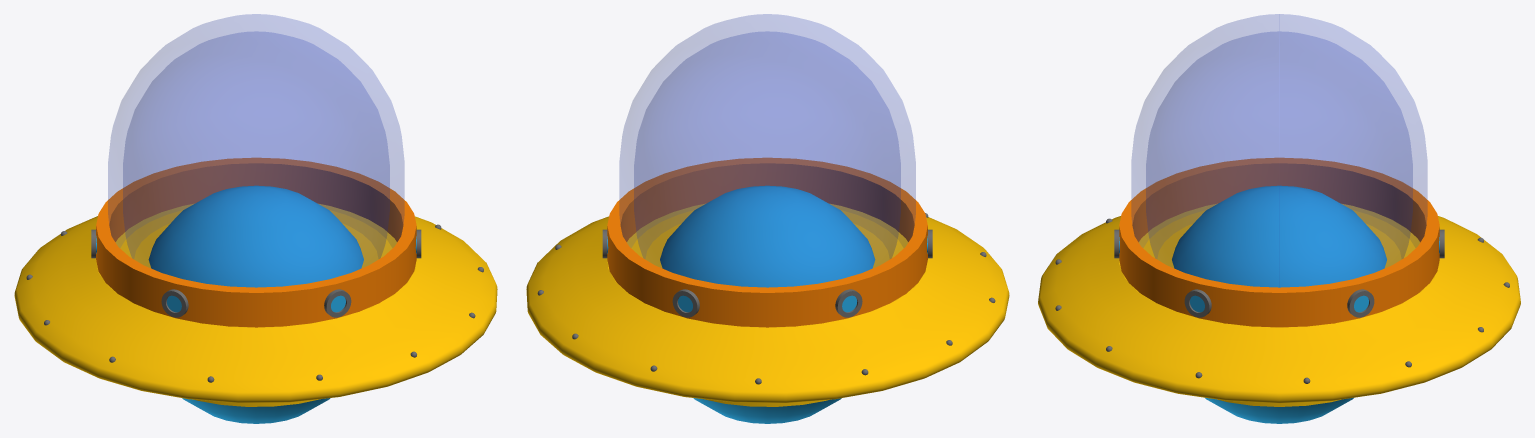
File: UFO.fbx
The picture shows the model from 3 angles, left to right: view 1: azimuth 30°, elevation 25°; view 2: azimuth 150°, elevation 25°; view 3: azimuth 270°, elevation 25°; orthographic projection.
Parts seen in each view (by area): view 1: Capsule_2, Loft, Capsule, Tube, Sphere, Cap_1; view 2: Capsule_2, Loft, Capsule, Tube, Sphere, Cap_1; view 3: Capsule_2, Loft, Capsule, Tube, Sphere, Cap_1.
Boxes of the visible parts, left/top/right/bottom form: Capsule_2: left=108, top=14, right=404, bottom=286; Loft: left=14, top=216, right=497, bottom=406; Capsule: left=123, top=31, right=389, bottom=258; Tube: left=96, top=157, right=416, bottom=327; Sphere: left=148, top=185, right=363, bottom=423; Cap_1: left=95, top=203, right=416, bottom=327; Capsule_2: left=619, top=14, right=915, bottom=286; Loft: left=526, top=216, right=1009, bottom=406; Capsule: left=634, top=31, right=900, bottom=258; Tube: left=607, top=157, right=927, bottom=327; Sphere: left=660, top=185, right=875, bottom=423; Cap_1: left=607, top=203, right=928, bottom=327; Capsule_2: left=1131, top=14, right=1427, bottom=286; Loft: left=1038, top=216, right=1520, bottom=406; Capsule: left=1146, top=31, right=1412, bottom=286; Tube: left=1119, top=157, right=1439, bottom=327; Sphere: left=1172, top=185, right=1386, bottom=423; Cap_1: left=1119, top=203, right=1439, bottom=327.
Size of the model in its own units: 403 by 356 by 404.
